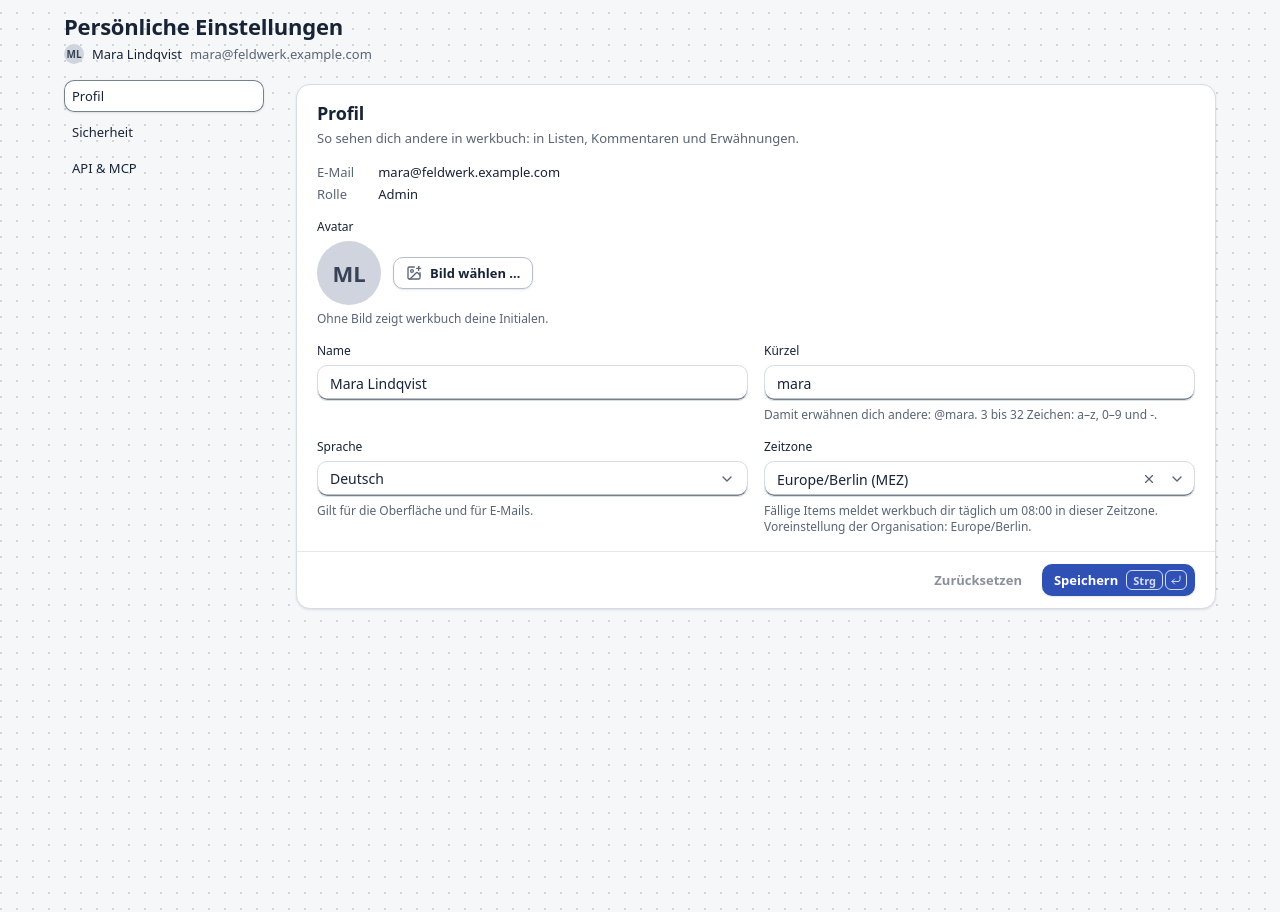
Test: Profile › saves only what changed, the handle without trailing blanks, and shows the answer until the page has reloaded
The image size is (1280, 912).
Replace the text in the field labelled "Name" with "Mara Lind": (532, 383) [317,365,748,401]
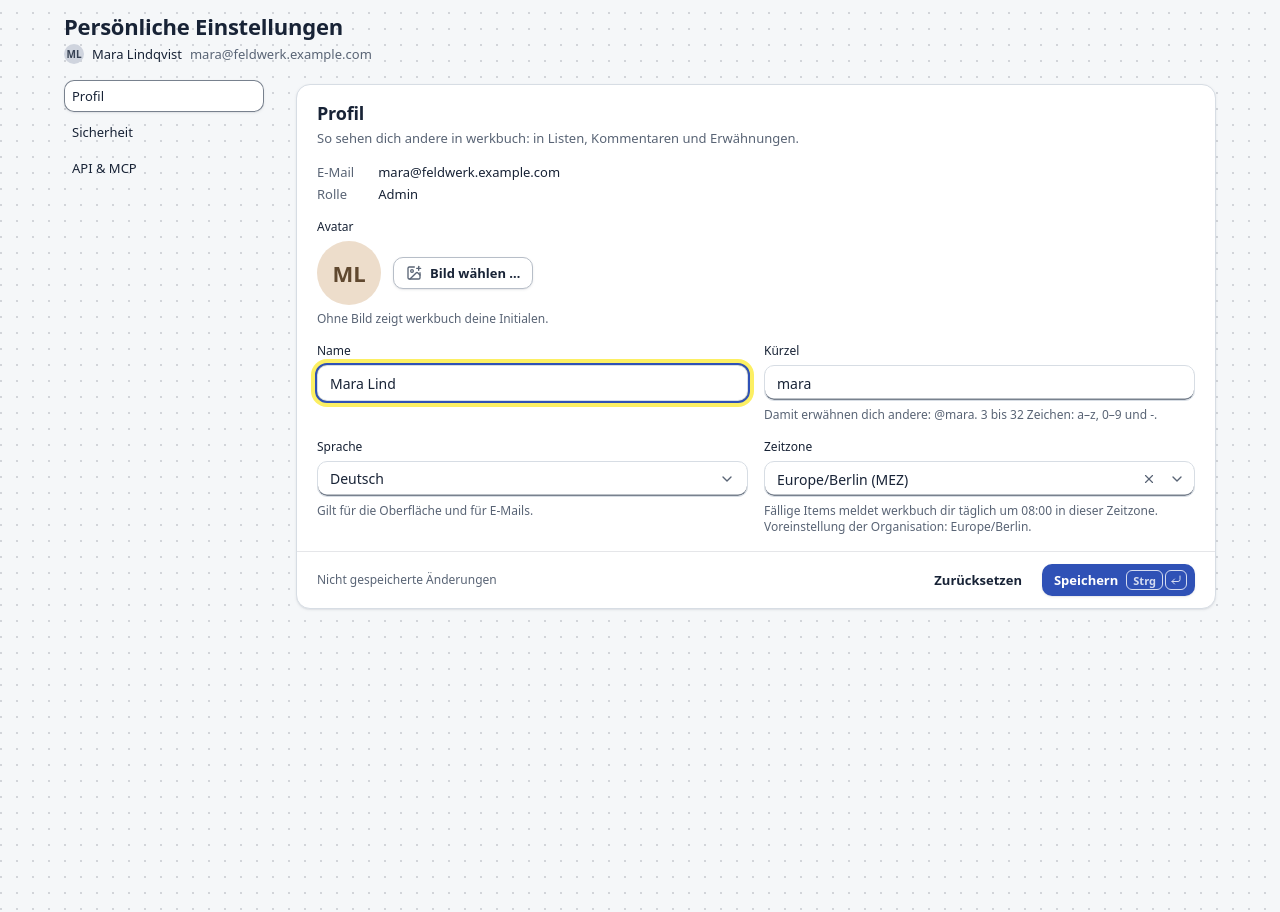
Clear the field labelled "Kürzel": (980, 383) [764,365,1195,401]
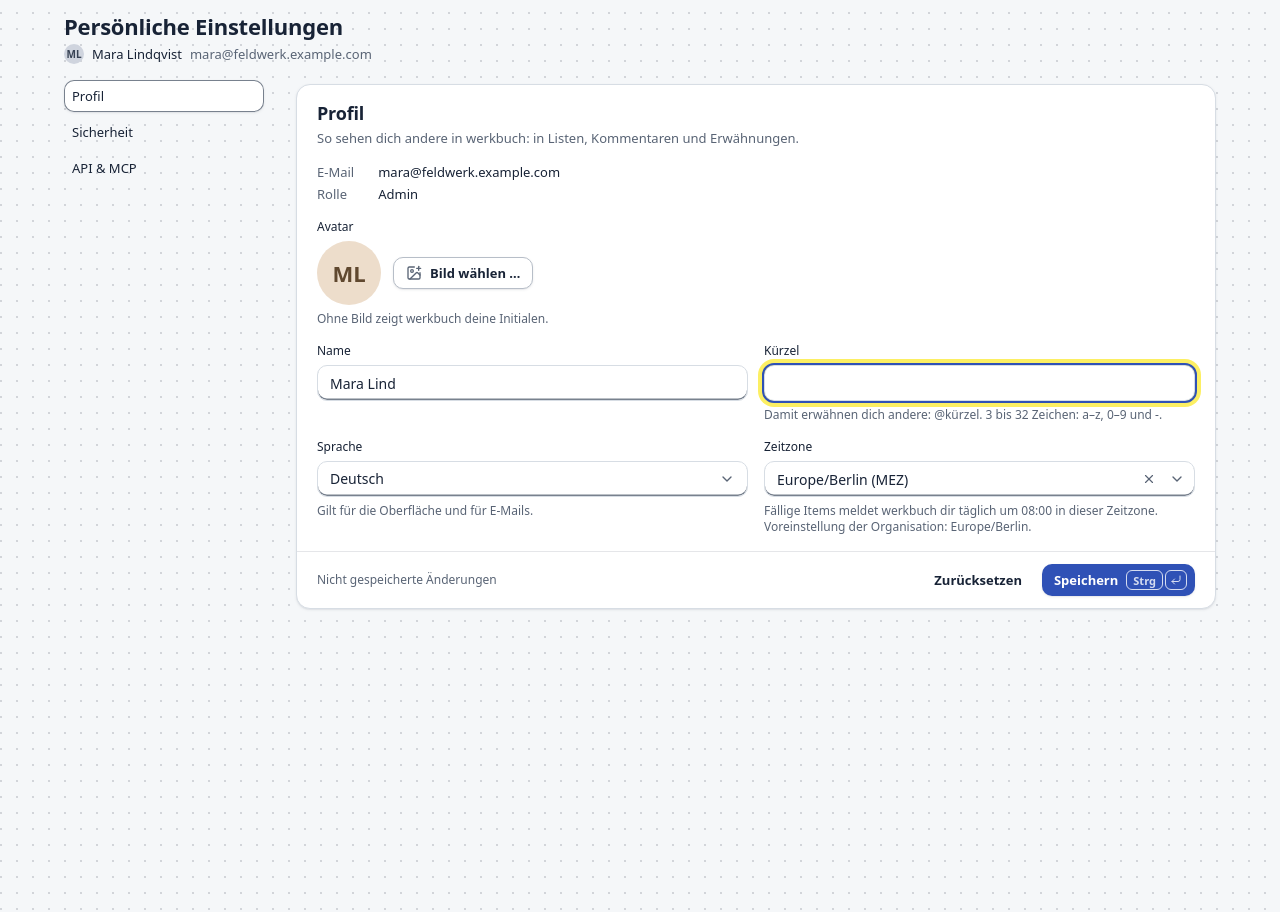
Check: the text "Damit erwähnen dich andere: @kürzel." is shown, box [764,406,1162,423]
In the field labelled "Kürzel": (980, 383) [764,365,1195,401], type "MaraL "
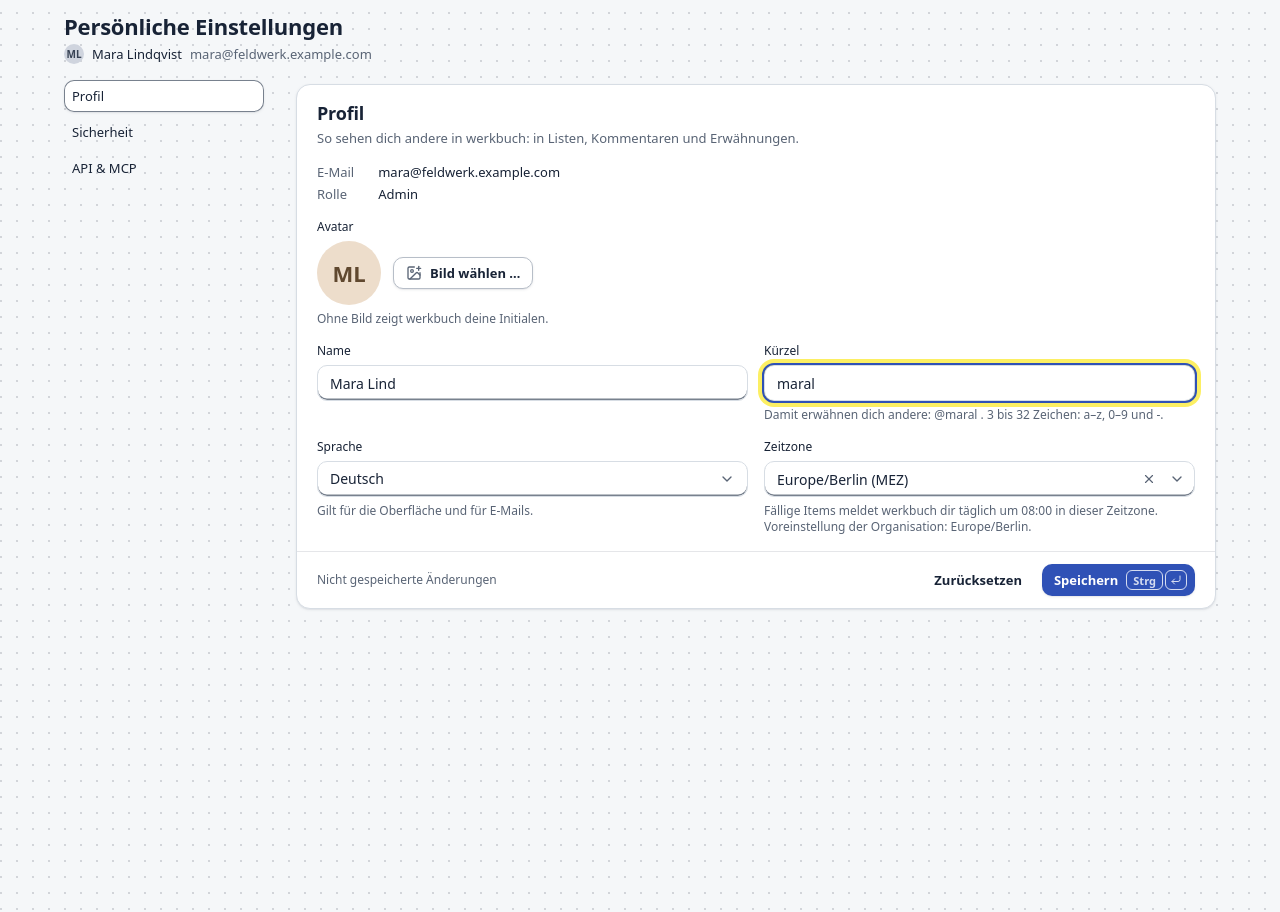
Check: the text "Nicht gespeicherte Änderungen" is shown, box [317,572,497,588]
Check: the text "@maral ." is shown, box [764,406,1164,423]
Click the button "Speichern Strg": (1118, 580) [1042,564,1195,596]
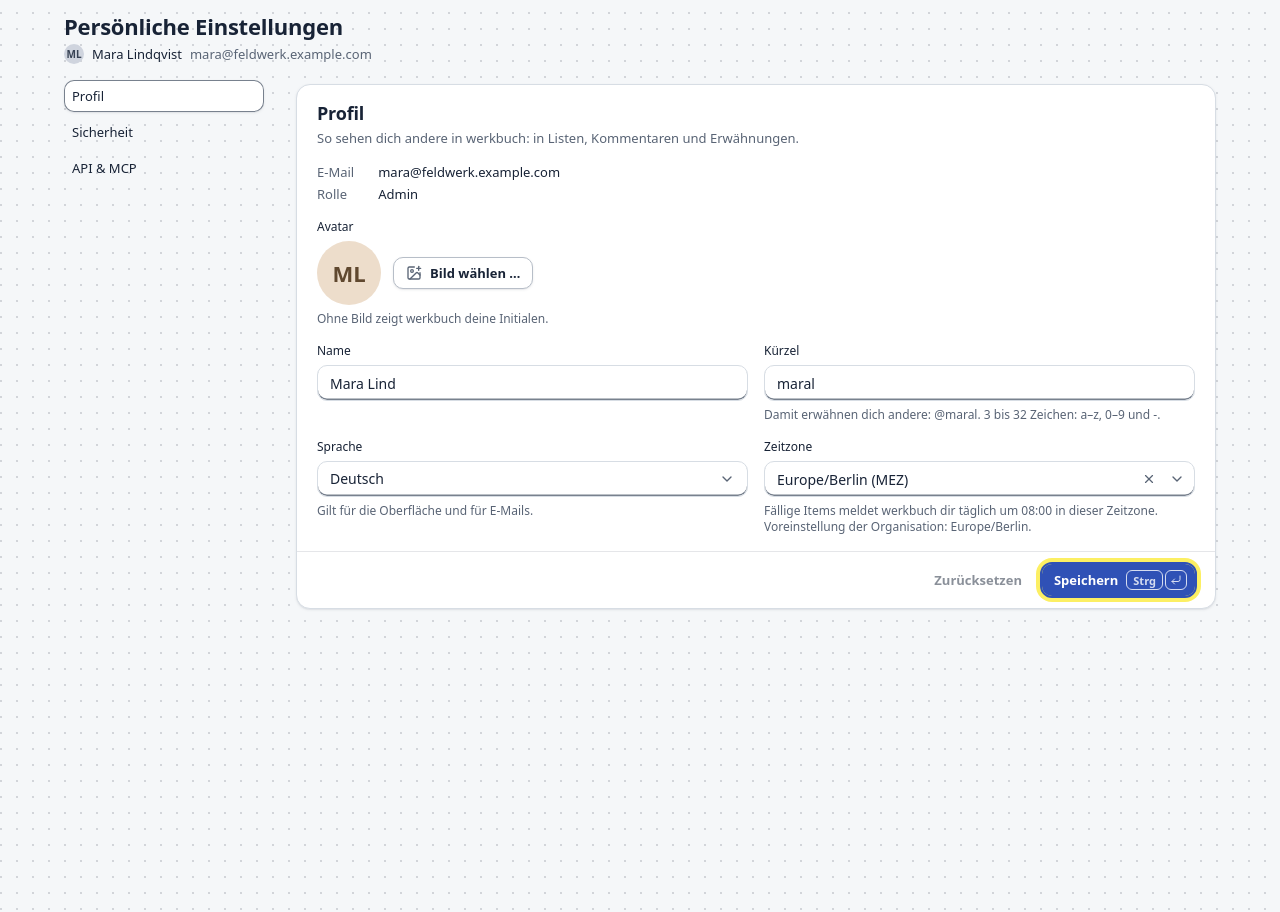
Check: the text "Nicht gespeicherte Änderungen" is gone
